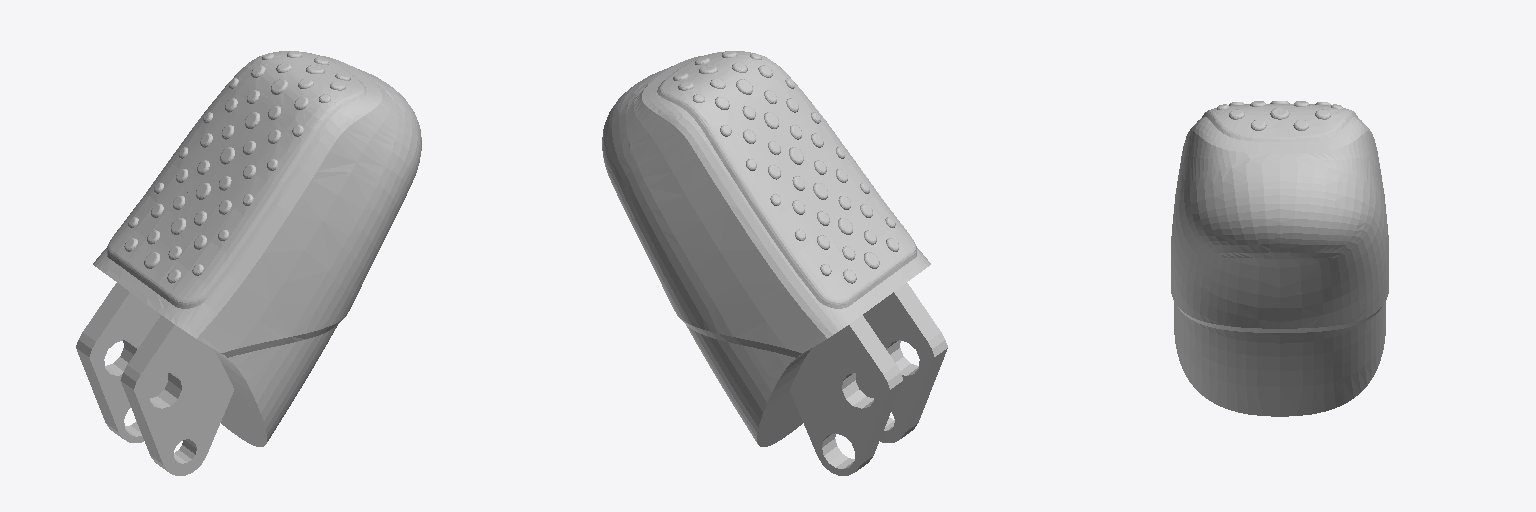
Rendered from right_thumb_4_collisions.obj.
The picture shows the model from 3 angles: view 1: azimuth 30°, elevation 25°; view 2: azimuth 150°, elevation 25°; view 3: azimuth 270°, elevation 25°; orthographic projection.
Size of the model in its own units: 0.0325 by 0.0358 by 0.0204.